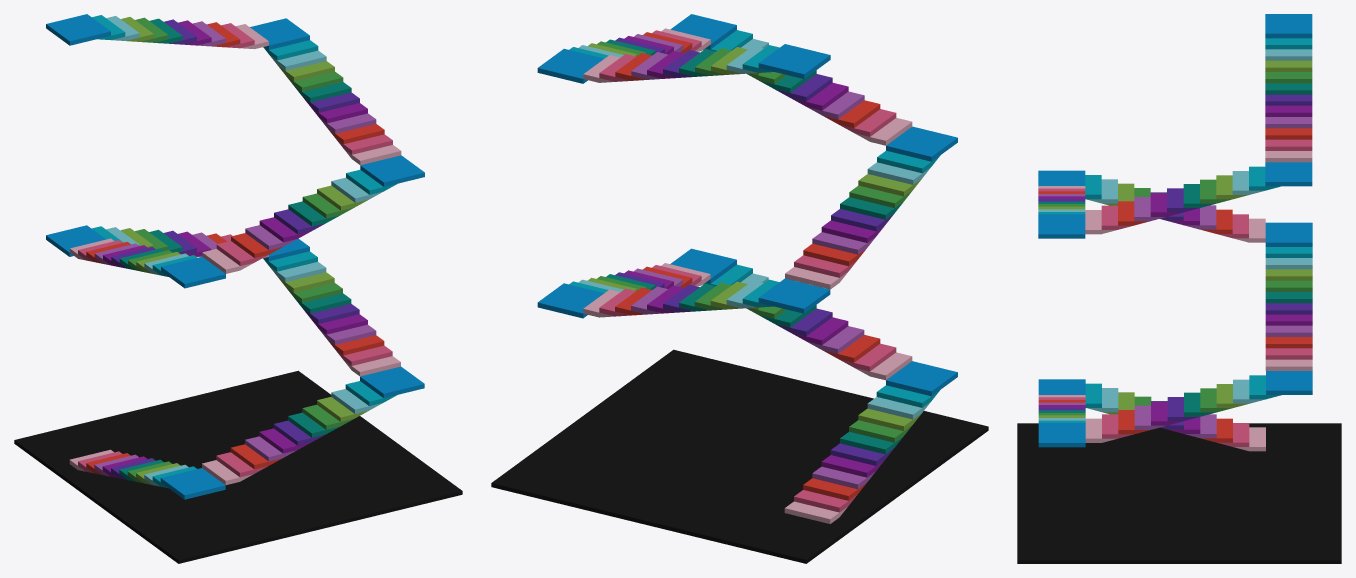
3 renders of one model, left to right at view 1: azimuth 30°, elevation 25°; view 2: azimuth 150°, elevation 25°; view 3: azimuth 270°, elevation 25°, orthographic. The views are drawn at different scales.
Parts seen in each view (by area): view 1: node_MeshObject1308892160-PolyPaper21; view 2: node_MeshObject1308892160-PolyPaper21; view 3: node_MeshObject1308892160-PolyPaper21.
Part boxes in pixels (x1=…): node_MeshObject1308892160-PolyPaper21: x1=14, y1=14, x2=462, y2=563; node_MeshObject1308892160-PolyPaper21: x1=491, y1=14, x2=988, y2=563; node_MeshObject1308892160-PolyPaper21: x1=1017, y1=14, x2=1341, y2=563.
Size of the model in its own units: 2.07 by 2.97 by 2.08.
